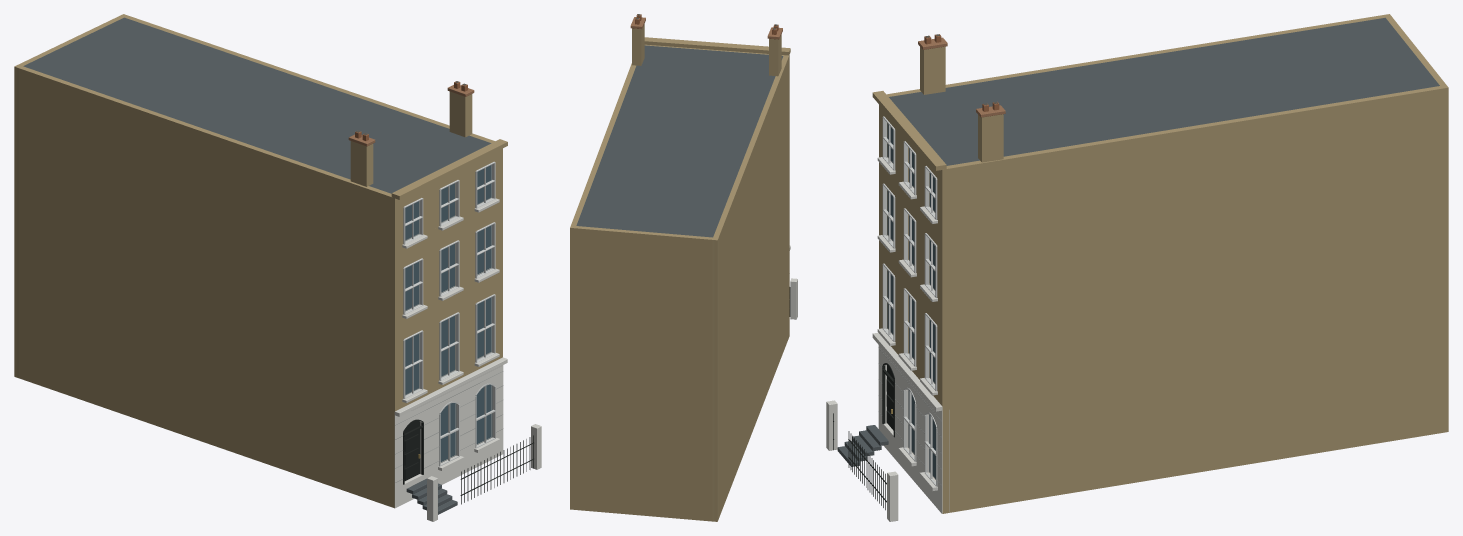
Rendered from 5lf-exterior-726713c0dac4.glb.
3 renders of one model, left to right at view 1: azimuth 30°, elevation 25°; view 2: azimuth 150°, elevation 25°; view 3: azimuth 270°, elevation 25°, orthographic. The views are drawn at different scales.
Visible parts, largest first — view 1: 5LF.001; view 2: 5LF.001; view 3: 5LF.001.
Part boxes in pixels (bbox=[...]): 5LF.001: bbox=[14, 14, 541, 521]; 5LF.001: bbox=[570, 14, 797, 521]; 5LF.001: bbox=[826, 14, 1448, 521].
Bounding box in the file's own units: 14.28 × 16.24 × 22.93.
